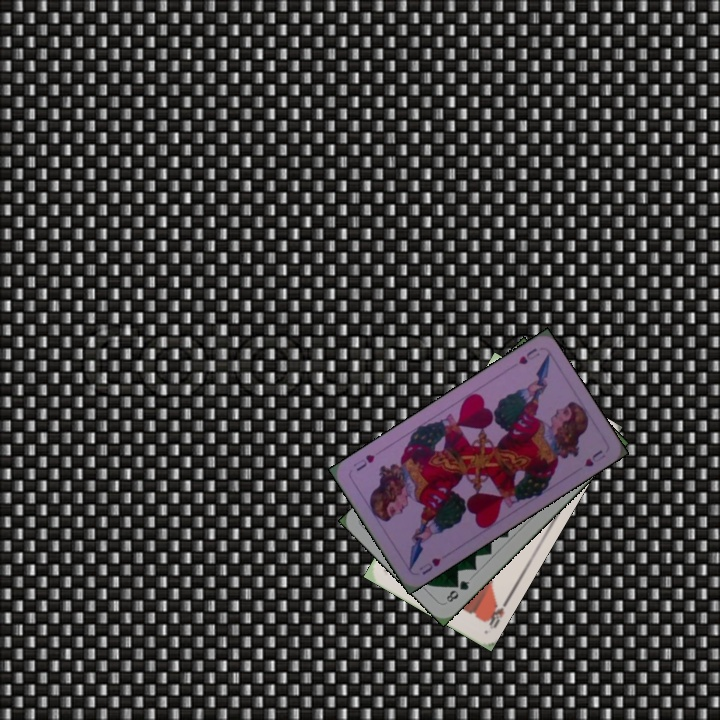G8: (442, 576, 472, 605)
HO: (481, 595, 511, 632)
HU: (514, 344, 543, 367), (415, 554, 443, 577)
